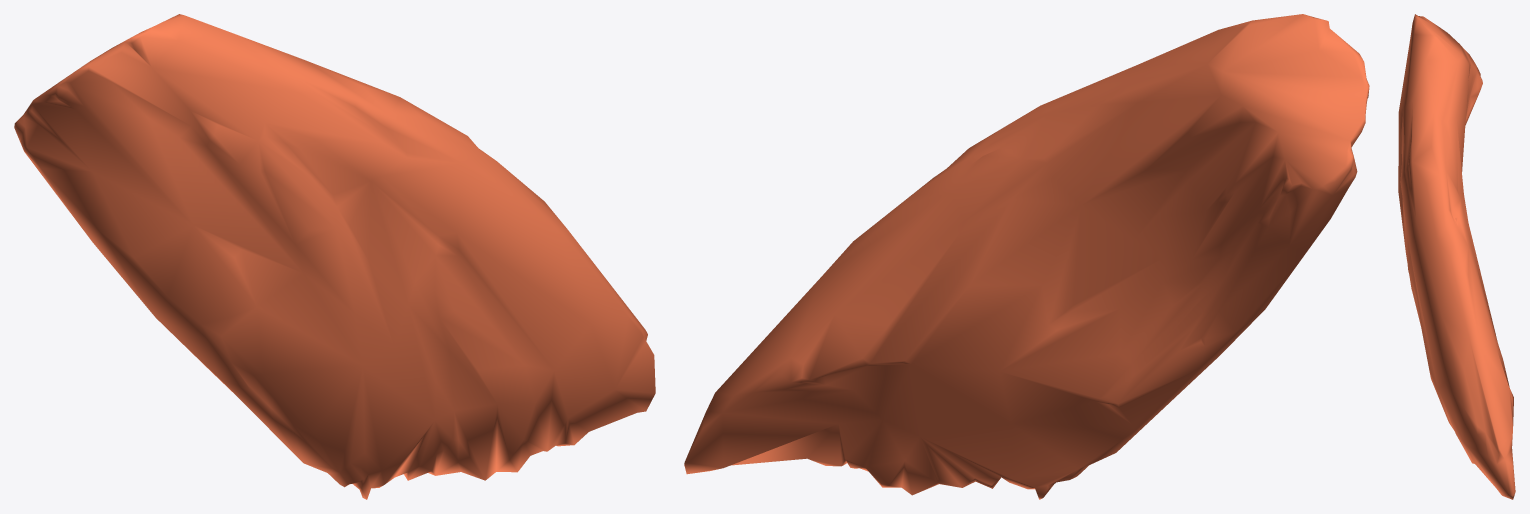
Rendered from Rectus_anterior_capitis_muscle.l_Generated_Mesh_From_X3D.247.glb.
The picture shows the model from 3 angles, left to right: view 1: azimuth 30°, elevation 25°; view 2: azimuth 150°, elevation 25°; view 3: azimuth 270°, elevation 25°; orthographic projection. The views are drawn at different scales.
Visible parts, largest first — view 1: Rectus_anterior_capitis_muscle.l_Generated_Mesh_From_X3D.247; view 2: Rectus_anterior_capitis_muscle.l_Generated_Mesh_From_X3D.247; view 3: Rectus_anterior_capitis_muscle.l_Generated_Mesh_From_X3D.247.
Part boxes in pixels (box(x1,y1,x2,y2)): Rectus_anterior_capitis_muscle.l_Generated_Mesh_From_X3D.247: box(14, 14, 655, 499); Rectus_anterior_capitis_muscle.l_Generated_Mesh_From_X3D.247: box(684, 14, 1369, 499); Rectus_anterior_capitis_muscle.l_Generated_Mesh_From_X3D.247: box(1398, 14, 1515, 499).
Bounding box in the file's own units: 0.025 × 0.0203 × 0.00669.
